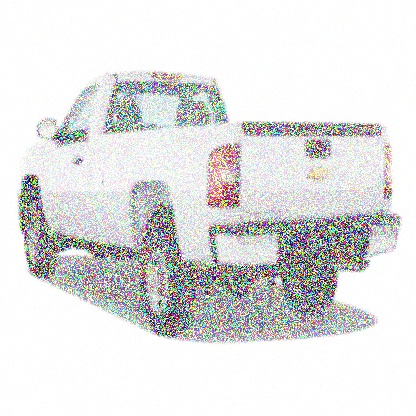Vehicle: (19, 72, 402, 338)
